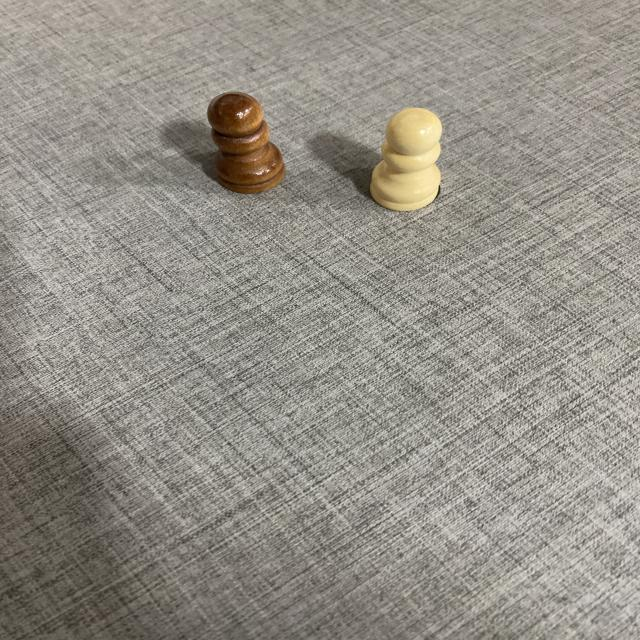Black-Pawn: (205, 91, 289, 197)
White-Pawn: (371, 108, 448, 214)
